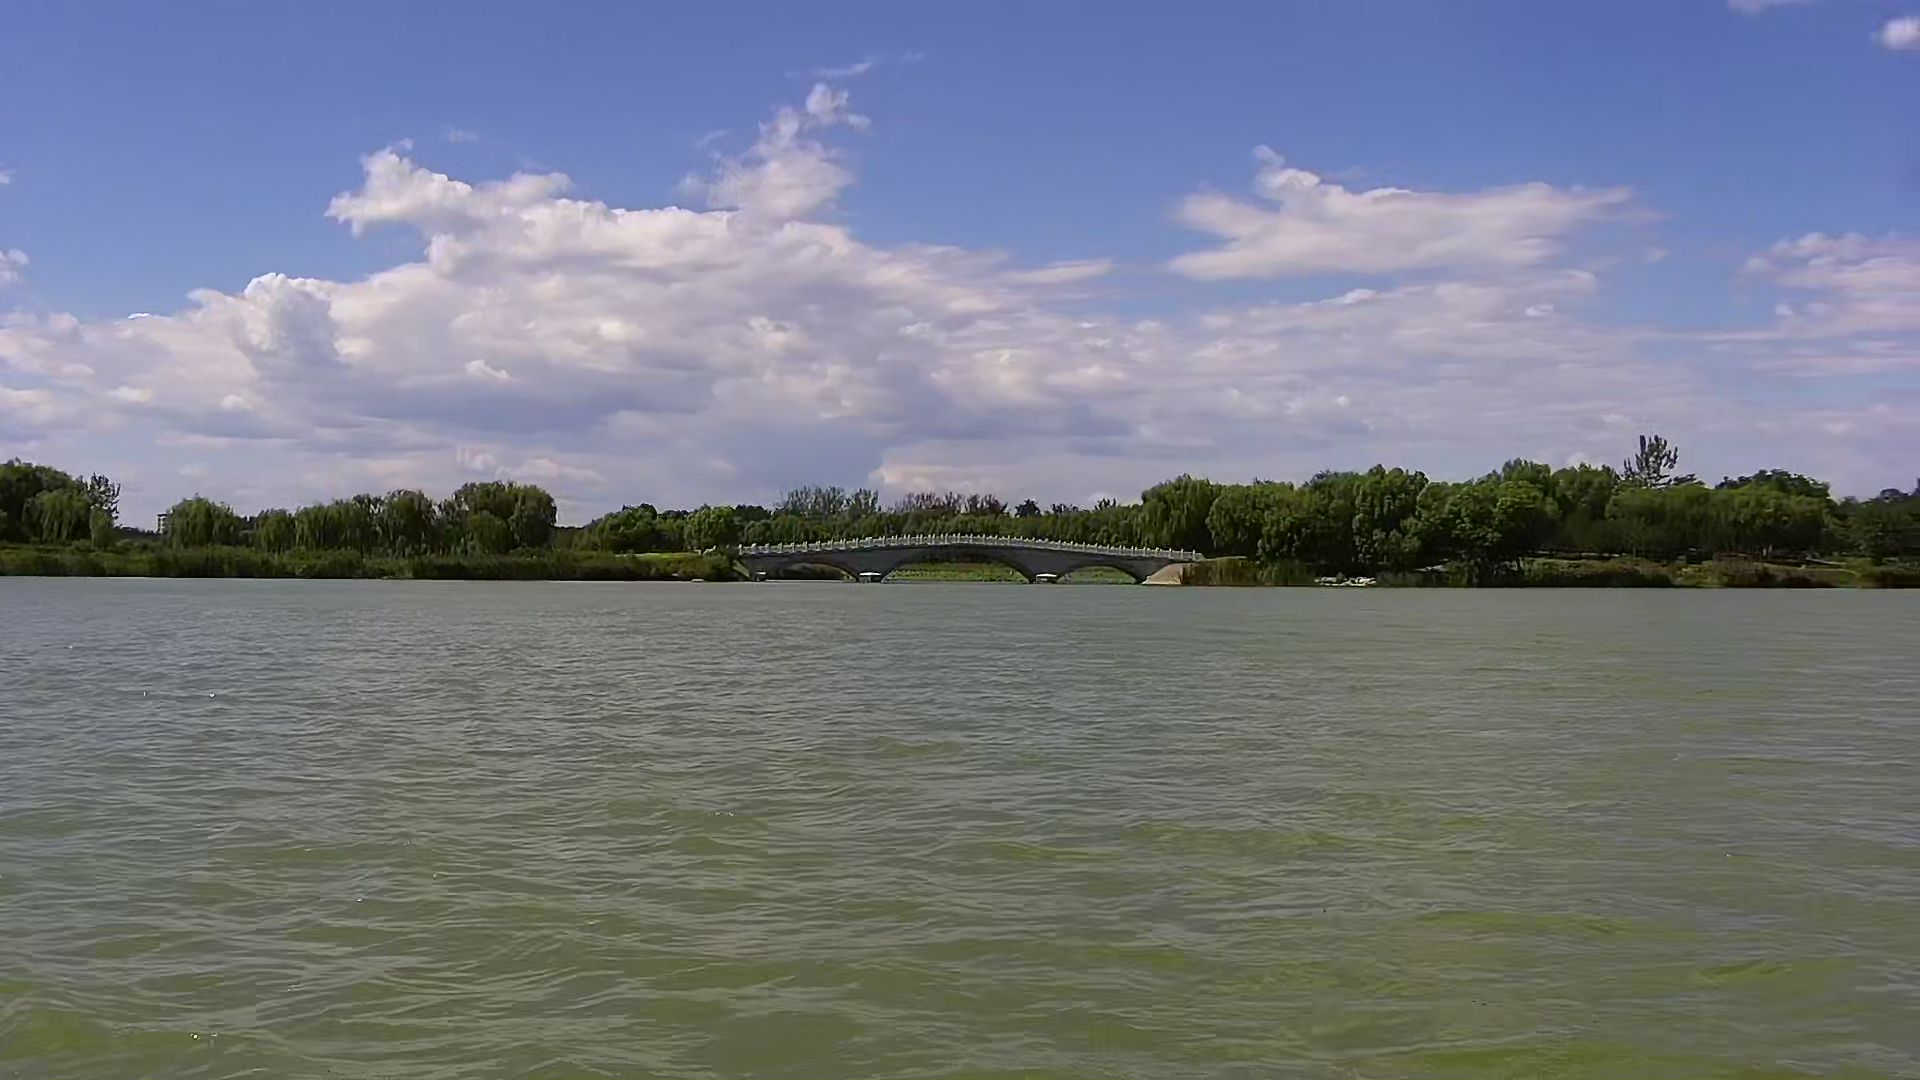bridge: (735, 531, 1197, 597)
